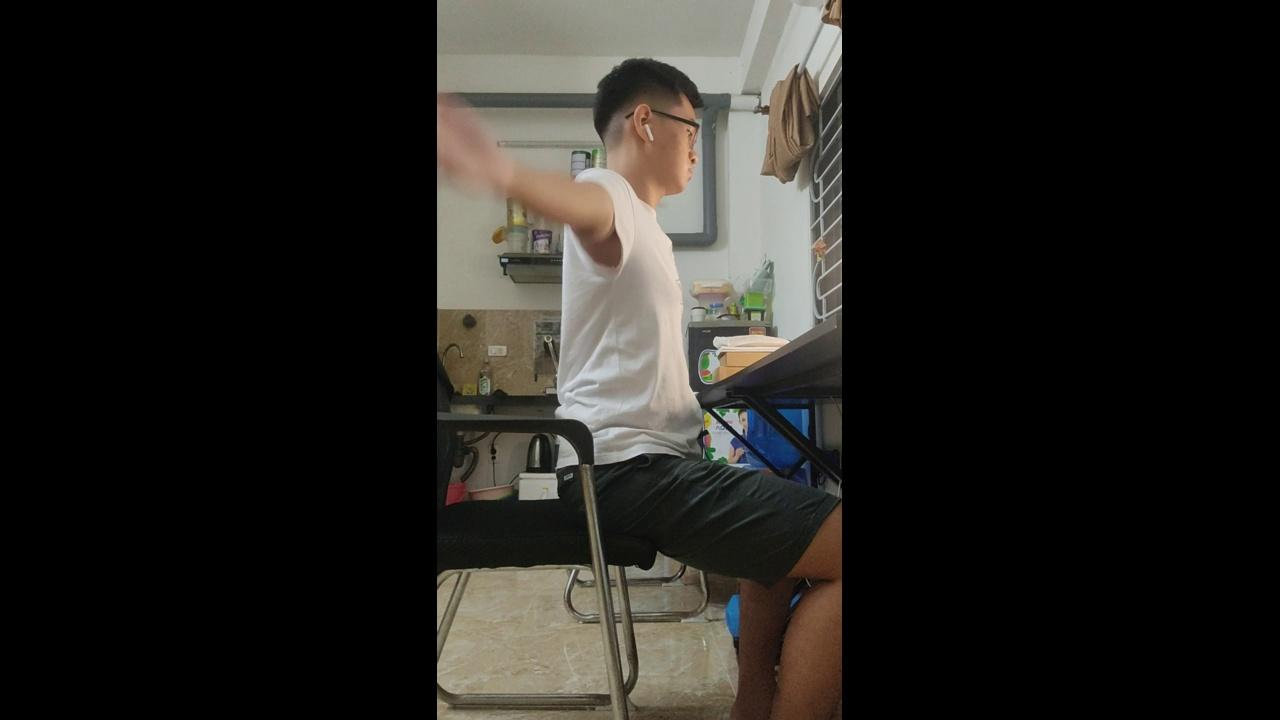GoodPosture: (437, 59, 844, 719)
